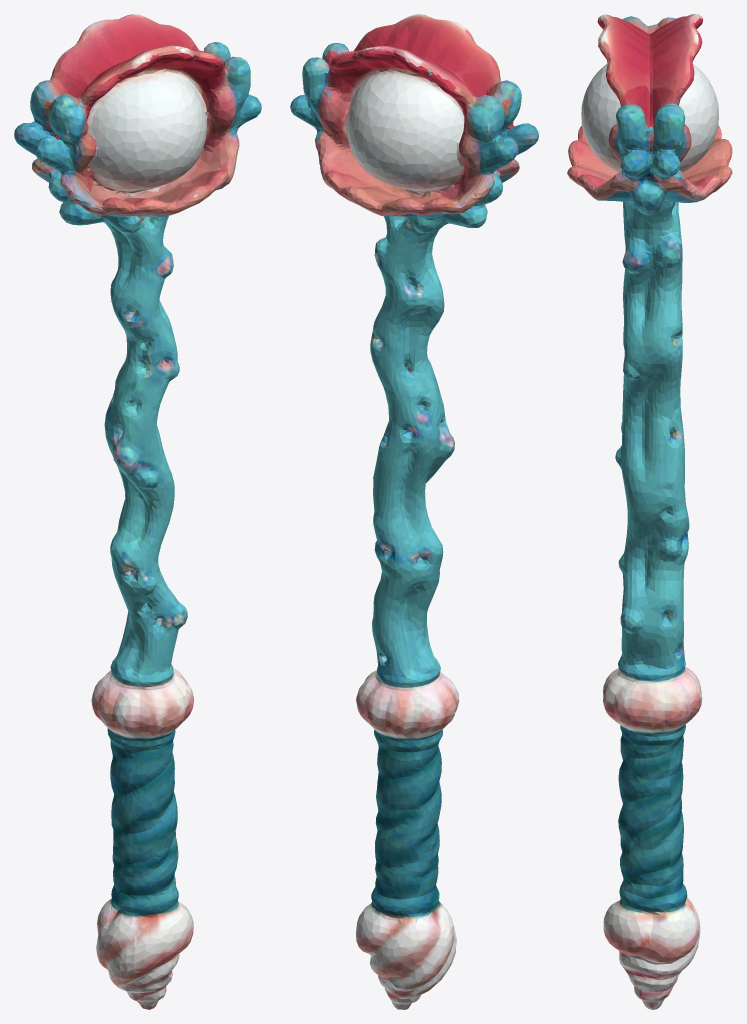
The model's file is wand_sea.glb.
3 views of the same model, side by side, from view 1: azimuth 30°, elevation 25°; view 2: azimuth 150°, elevation 25°; view 3: azimuth 270°, elevation 25° (orthographic).
Parts seen in each view (by area): view 1: tmpkavo75_o.ply; view 2: tmpkavo75_o.ply; view 3: tmpkavo75_o.ply.
Part boxes in pixels (x1,y1,x2,y2): tmpkavo75_o.ply: (14,14,261,1009); tmpkavo75_o.ply: (290,14,538,1009); tmpkavo75_o.ply: (567,14,732,1009).
Bounding box in the file's own units: 0.2423 × 1 × 0.1526.
Materials: 1 (1 with a texture image).
